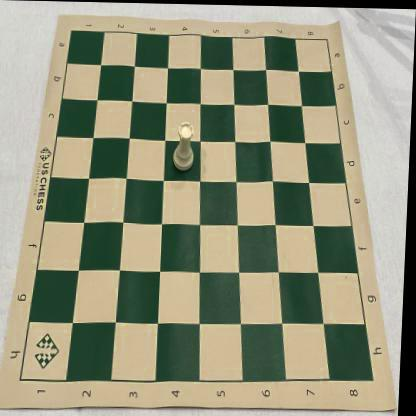white-rook: (174, 122, 198, 172)
